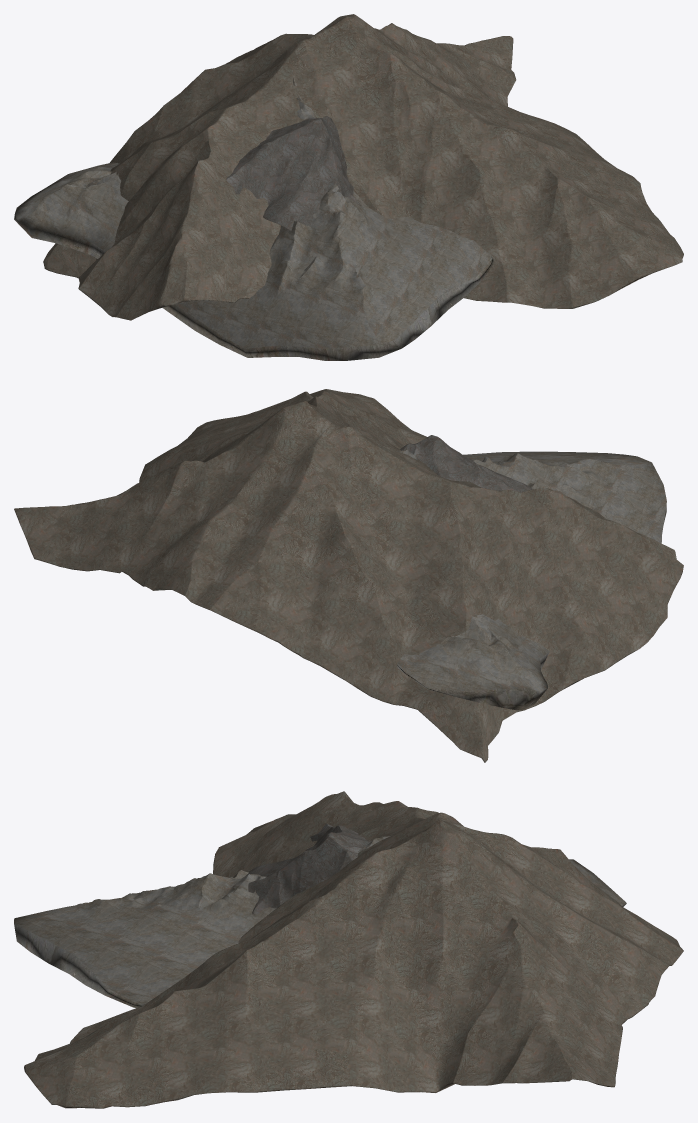
File: home-sky.glb
The picture shows the model from 3 angles, top to bottom: view 1: azimuth 30°, elevation 25°; view 2: azimuth 150°, elevation 25°; view 3: azimuth 270°, elevation 25°; orthographic projection. The views are drawn at different scales.
Parts seen in each view (by area): view 1: S_Nature_MountainStone_14, S_Nature_MountainStone_16, S_Nature_MountainStone_17; view 2: S_Nature_MountainStone_14, S_Nature_MountainStone_16, S_Nature_MountainStone_17; view 3: S_Nature_MountainStone_14, S_Nature_MountainStone_16, S_Nature_MountainStone_17.
Boxes of the visible parts, box(x1,y1,x2,y2) form: S_Nature_MountainStone_14: box(43, 14, 683, 320); S_Nature_MountainStone_16: box(14, 70, 494, 360); S_Nature_MountainStone_17: box(226, 116, 360, 231); S_Nature_MountainStone_14: box(14, 389, 683, 762); S_Nature_MountainStone_16: box(378, 444, 666, 710); S_Nature_MountainStone_17: box(400, 435, 532, 492); S_Nature_MountainStone_14: box(24, 791, 683, 1108); S_Nature_MountainStone_16: box(14, 827, 626, 1008); S_Nature_MountainStone_17: box(246, 823, 371, 914).
Size of the model in its own units: 859 by 393 by 852.
4 materials, 4 textured.
